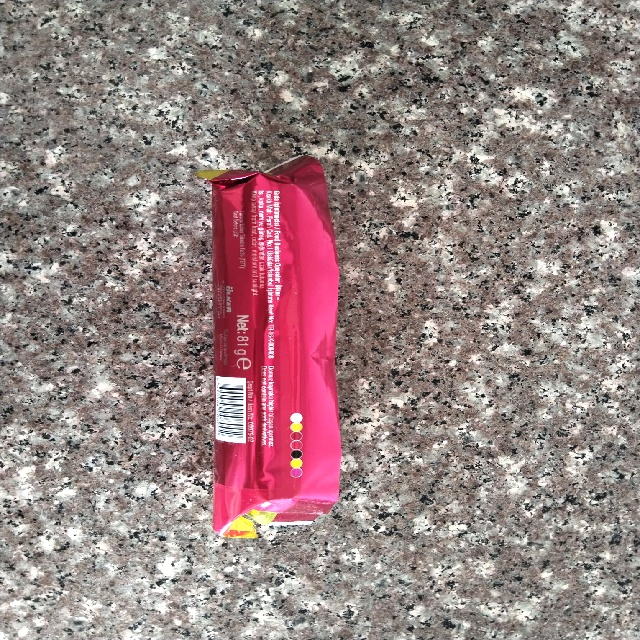ulker_cokoprens_biskuvi: (204, 158, 340, 537)
